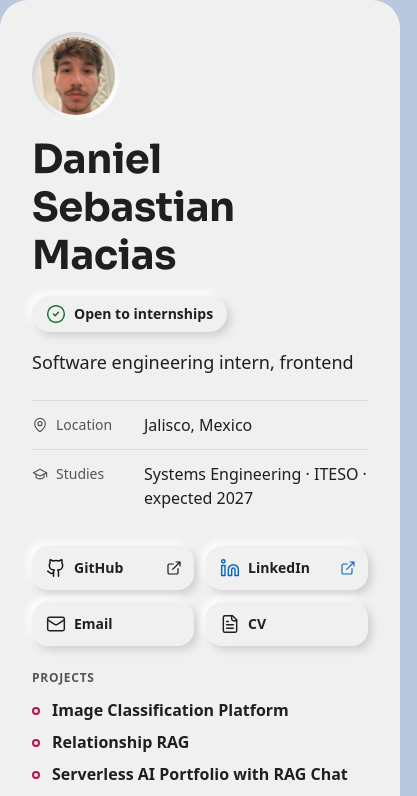
Scenario: email and CV buttons › becomes a real download as soon as a PDF address is set
Focus the link "CV": (287, 624) [206,602,368,646]
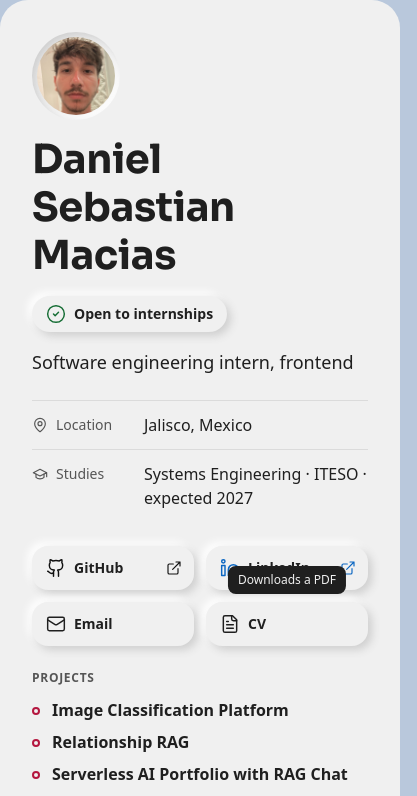
Result: the tooltip "Downloads a PDF" is shown at [228,566,346,594]
